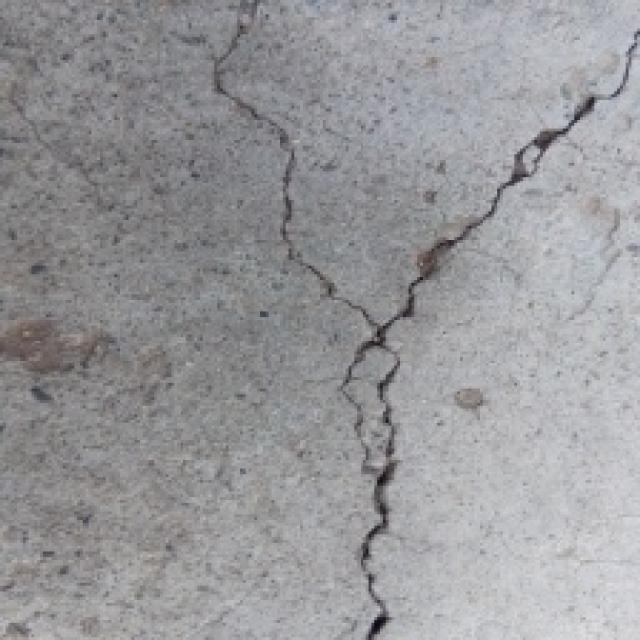crack: (186, 0, 414, 640), (346, 0, 640, 384)
